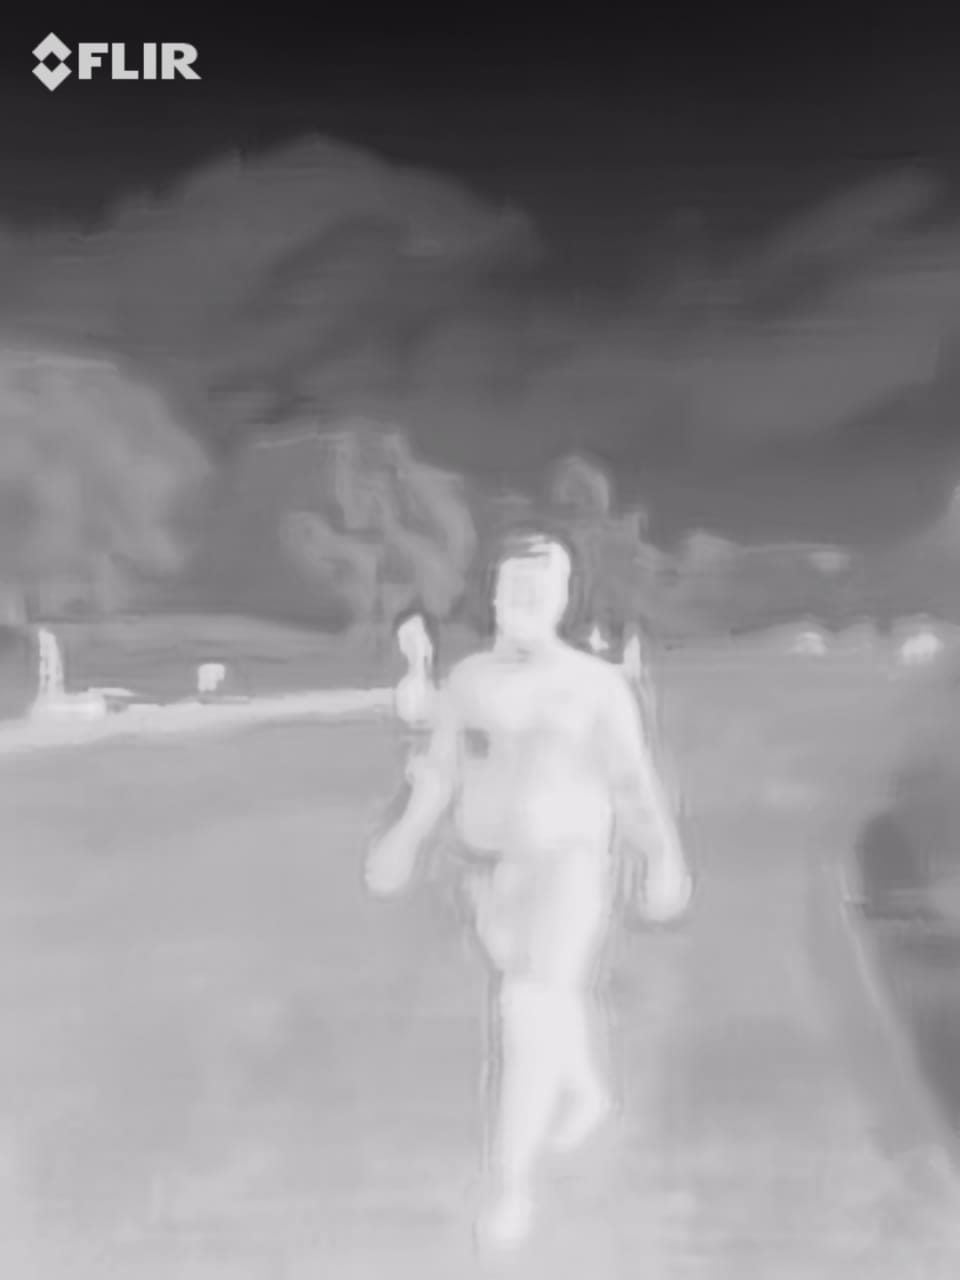head: (474, 518, 578, 664)
